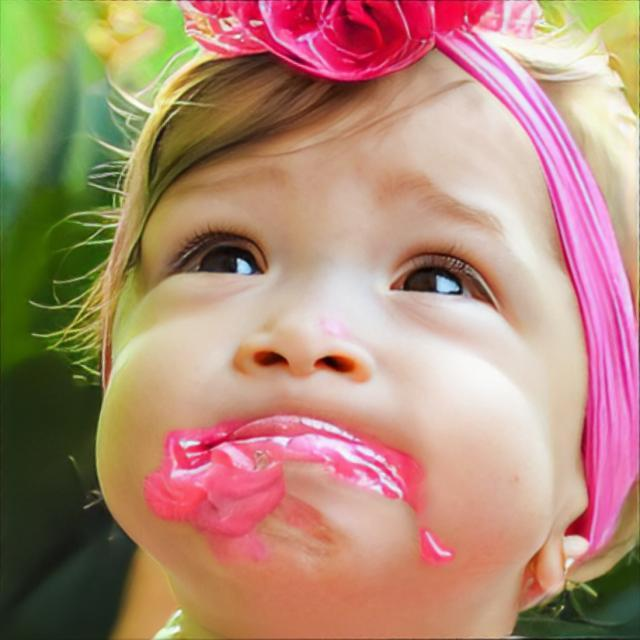sad: (92, 44, 581, 586)
